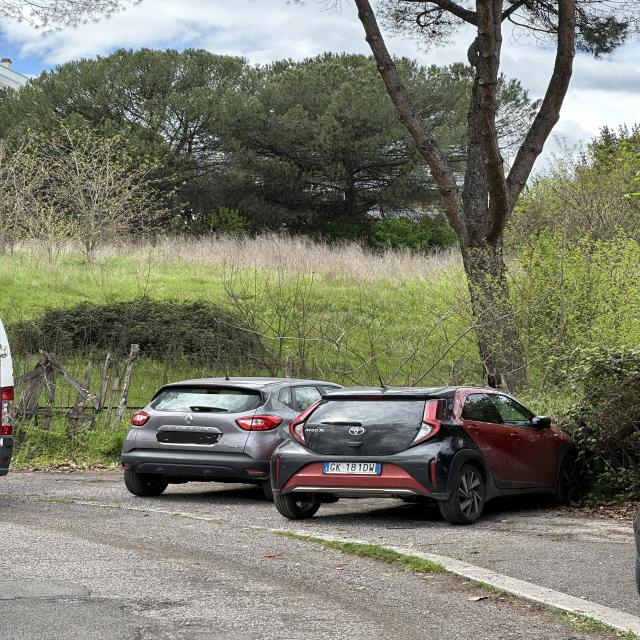number_plate: (323, 462, 381, 474)
